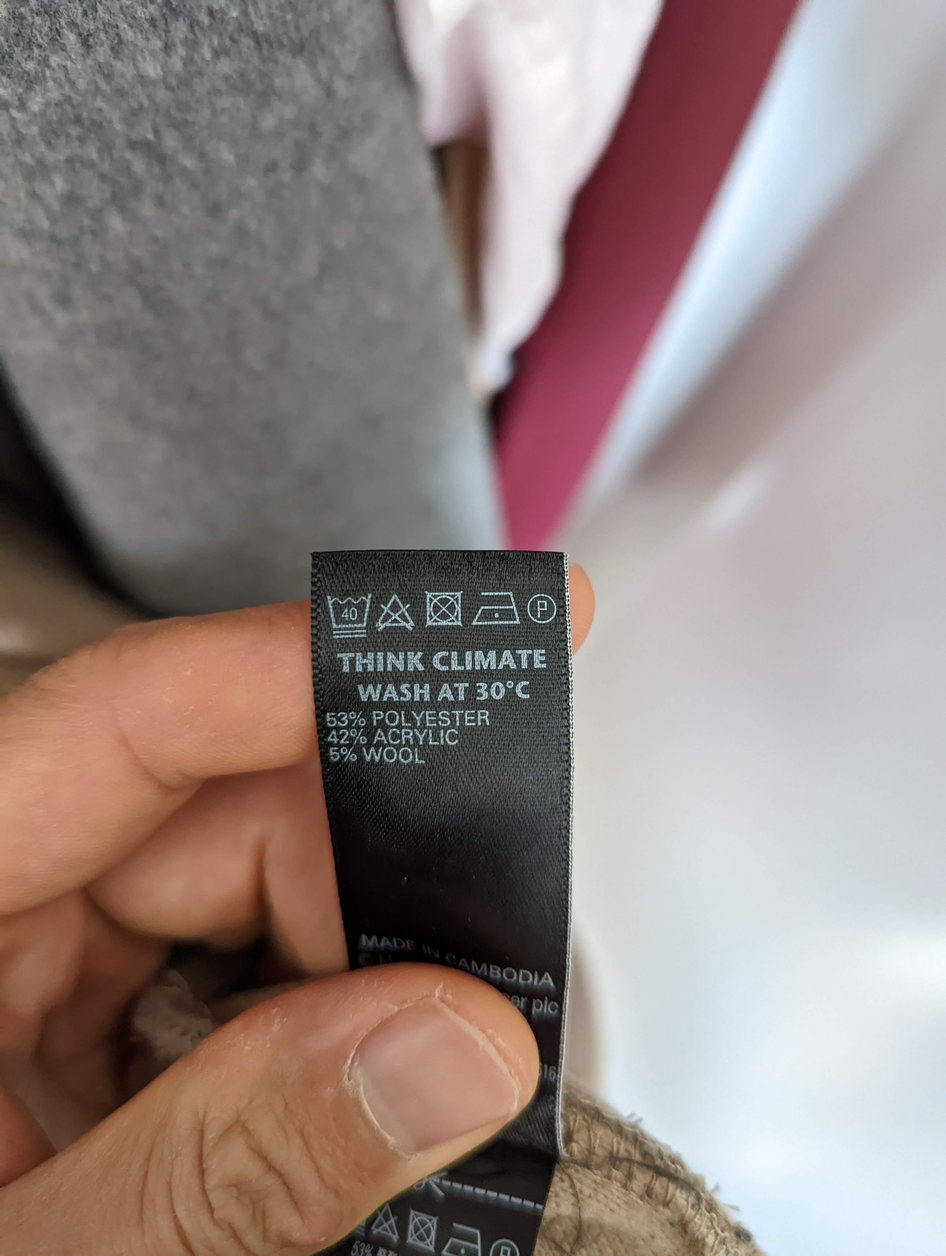ER_dry_clean_chemical: (526, 591, 559, 624)
ER_iron_low_temp: (471, 588, 523, 629)
ER_no_bleach: (375, 589, 417, 633)
ER_no_tumble_dry: (422, 588, 468, 630)
ER_wash_40_mild: (323, 589, 374, 643)
